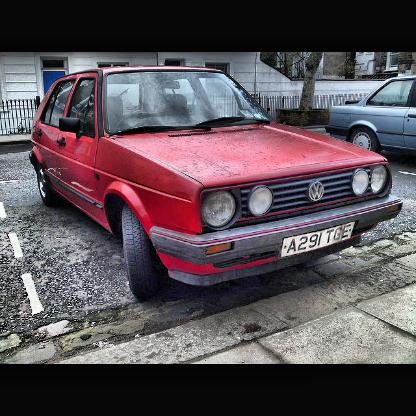Volkswagen Golf Hatchback 1991: (31, 66, 403, 300)
